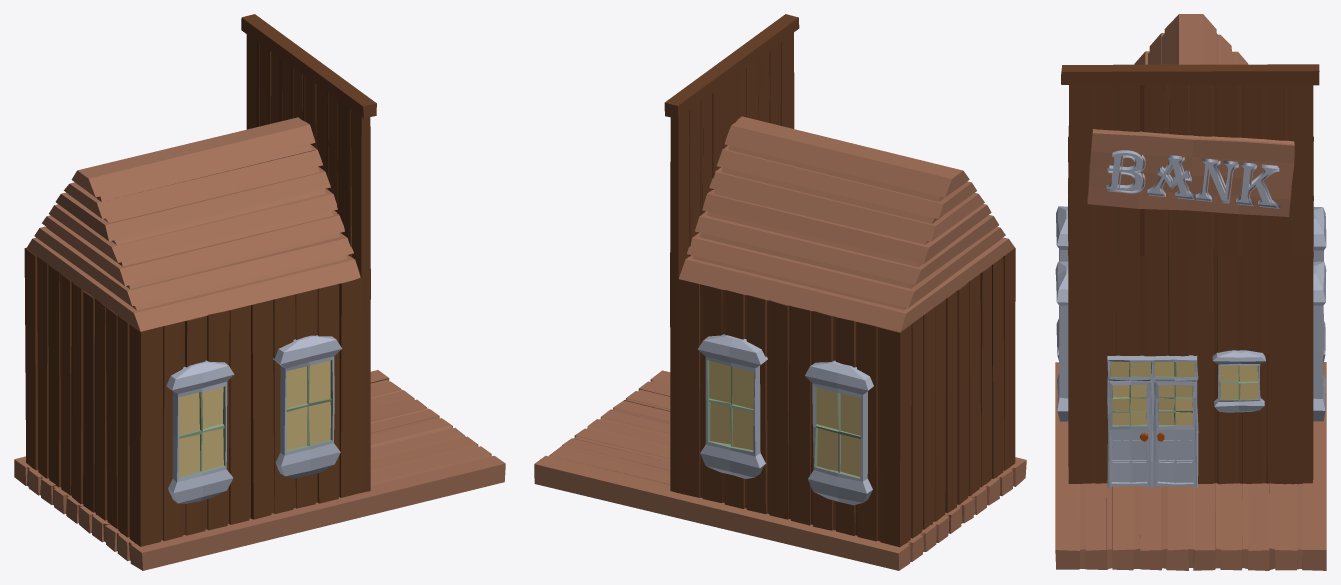
The model's file is Bank.fbx.
3 renders of one model, left to right at view 1: azimuth 30°, elevation 25°; view 2: azimuth 150°, elevation 25°; view 3: azimuth 270°, elevation 25°, orthographic. The views are drawn at different scales.
Parts seen in each view (by area): view 1: Bank; view 2: Bank; view 3: Bank, BankText.
Boxes of the visible parts, x1,y1,x2,y2 form: Bank: (14,14,505,570); Bank: (534,14,1026,570); Bank: (1055,14,1326,570); BankText: (1106,150,1280,208).
Size of the model in its own units: 330 by 354 by 200.
